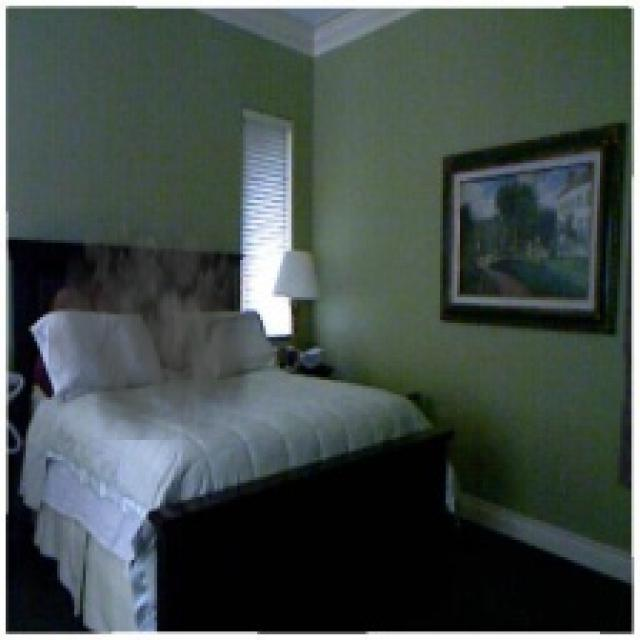smoke: (49, 189, 260, 440)
